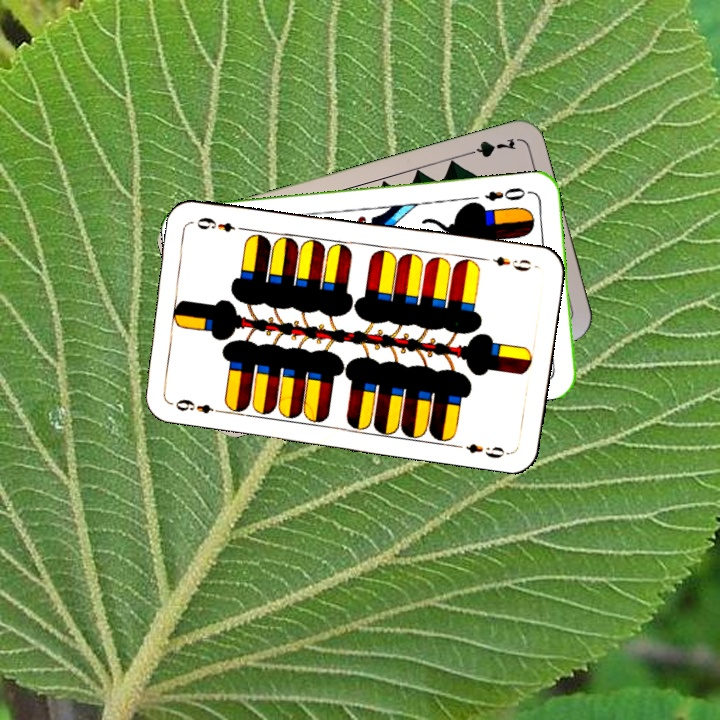E9: (166, 395, 225, 416), (489, 252, 533, 274)
EO: (480, 183, 528, 204)
G7: (459, 134, 518, 160)
